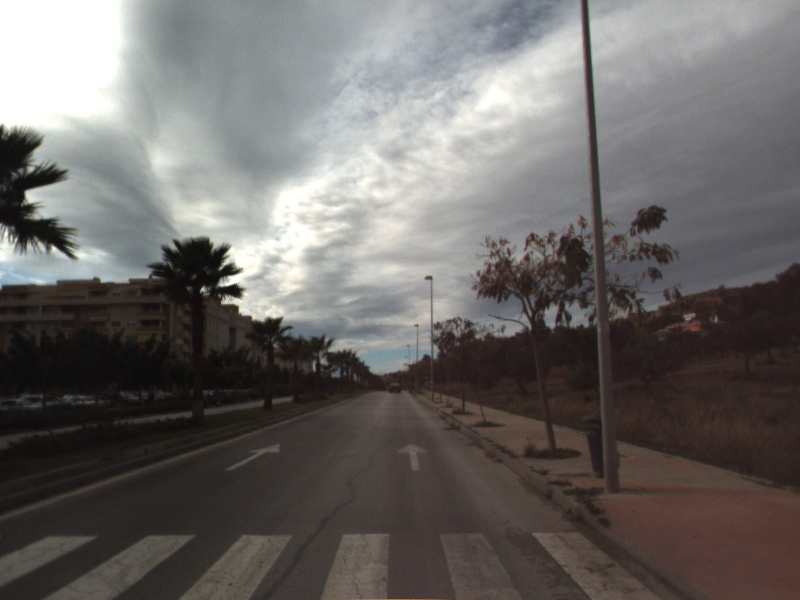STRAIGHT: (224, 441, 282, 472), (395, 441, 430, 472)
